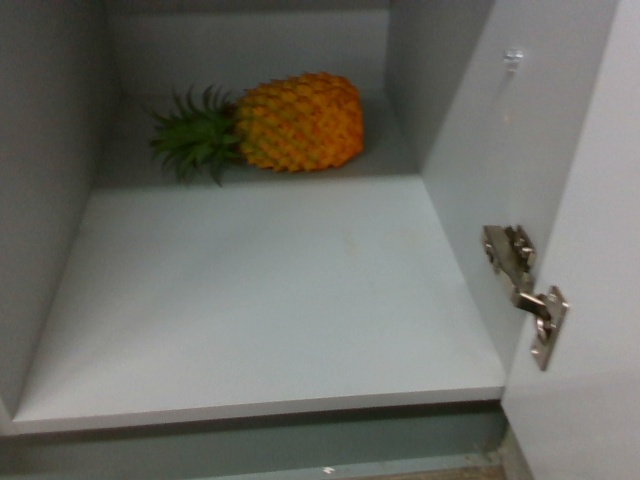pineapple: (143, 71, 371, 176)
